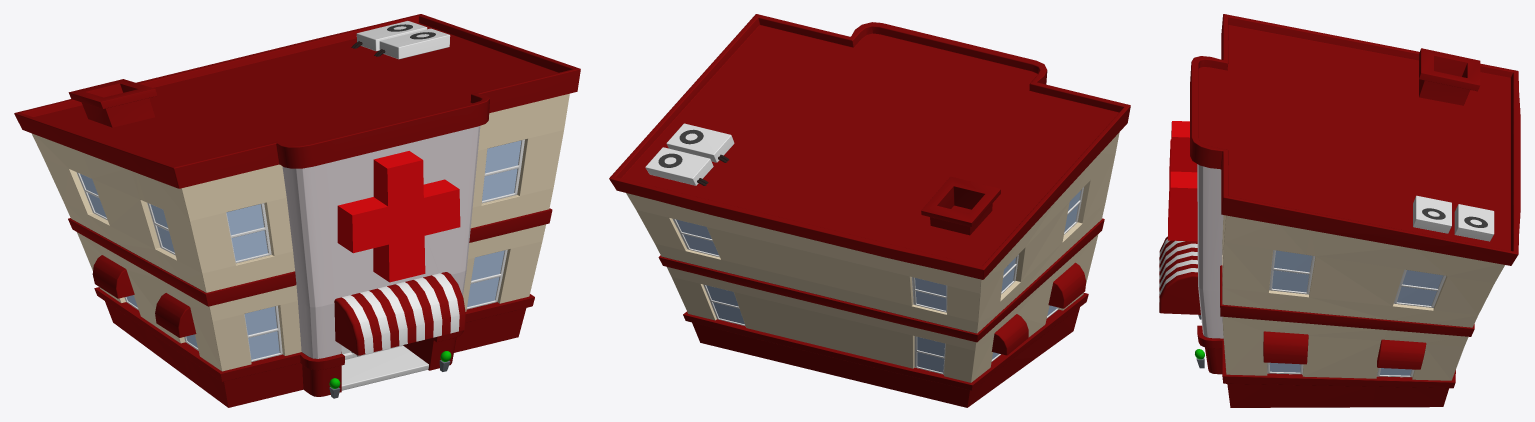
Rendered from Hospital.fbx.
3 renders of one model, left to right at view 1: azimuth 30°, elevation 25°; view 2: azimuth 150°, elevation 25°; view 3: azimuth 270°, elevation 25°, orthographic. The views are drawn at different scales.
Parts seen in each view (by area): view 1: pizzaria, Cube; view 2: pizzaria; view 3: pizzaria, Cube.
Boxes of the visible parts, x1,y1,x2,y2 form: pizzaria: [14, 14, 580, 407]; Cube: [337, 151, 460, 282]; pizzaria: [609, 14, 1130, 407]; pizzaria: [1159, 14, 1520, 407]; Cube: [1168, 121, 1197, 241].
Bounding box in the file's own units: 53.84 × 33.33 × 44.82.
